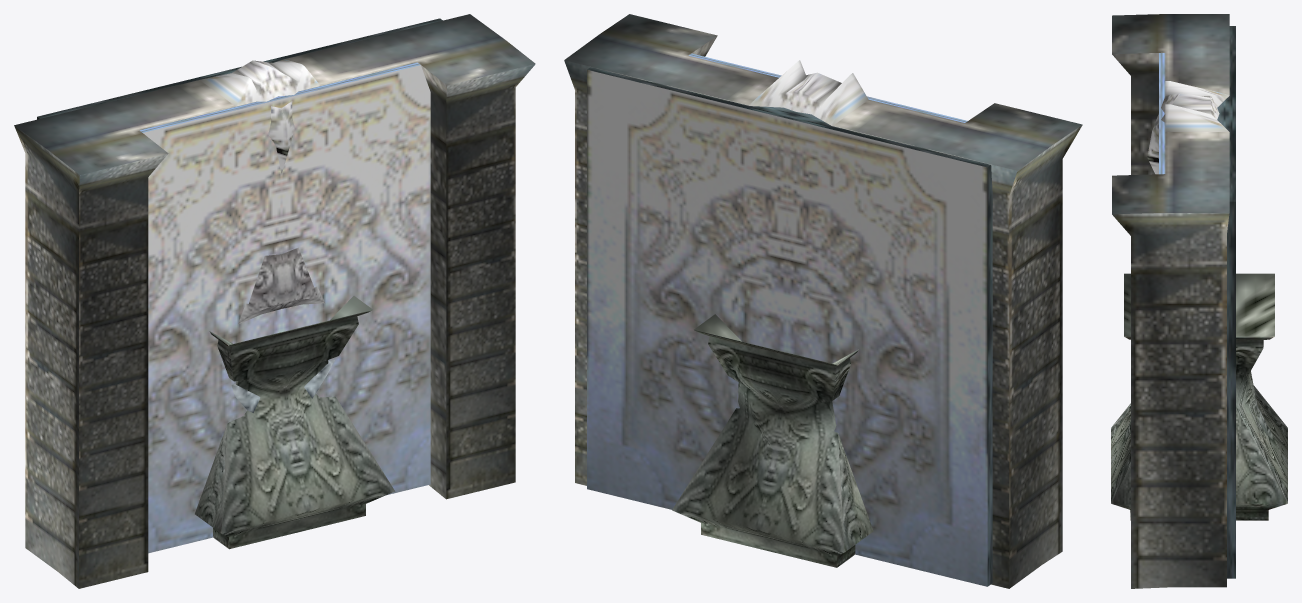
Rendered from PS1_PalastAssetCollection.fbx.
3 views of the same model, side by side, from view 1: azimuth 30°, elevation 25°; view 2: azimuth 150°, elevation 25°; view 3: azimuth 270°, elevation 25° (orthographic). The views are drawn at different scales.
Parts seen in each view (by area): view 1: Wall, AngelWall, obelisk, shrine, Devilsface; view 2: AngelWall, Wall, obelisk; view 3: Wall, obelisk, AngelWall.
Part boxes in pixels (x1,y1,x2,y2): Wall: [14, 14, 535, 588]; AngelWall: [37, 18, 442, 553]; obelisk: [195, 296, 394, 549]; shrine: [238, 247, 324, 324]; Devilsface: [231, 360, 334, 412]; AngelWall: [587, 53, 992, 586]; Wall: [564, 14, 1082, 588]; obelisk: [672, 314, 873, 567]; Wall: [1112, 14, 1229, 588]; obelisk: [1111, 273, 1287, 520]; AngelWall: [1159, 26, 1235, 578].
Size of the model in its own units: 396 by 373 by 149.
Materials: 5 (5 with a texture image).
